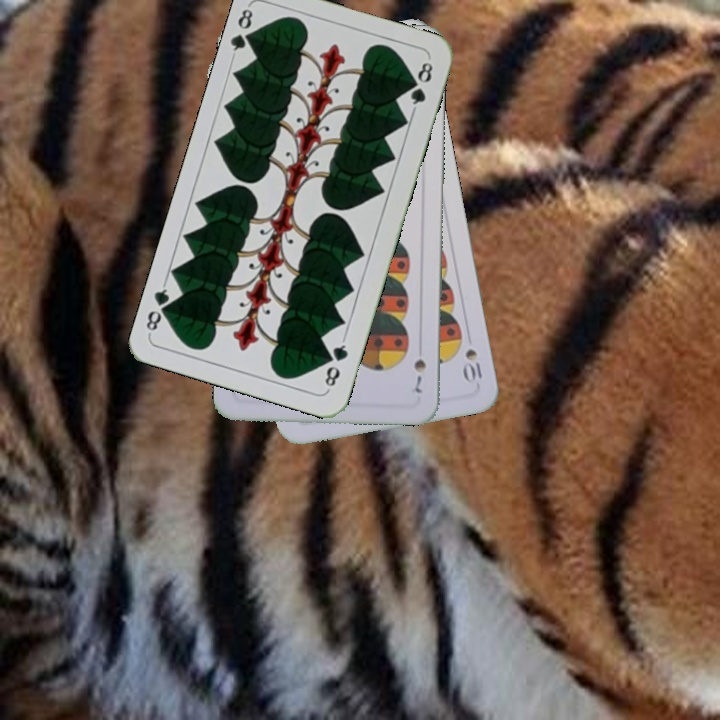G8: (226, 2, 260, 60), (321, 335, 351, 392)
S10: (459, 345, 485, 387)
S7: (407, 355, 428, 399)
